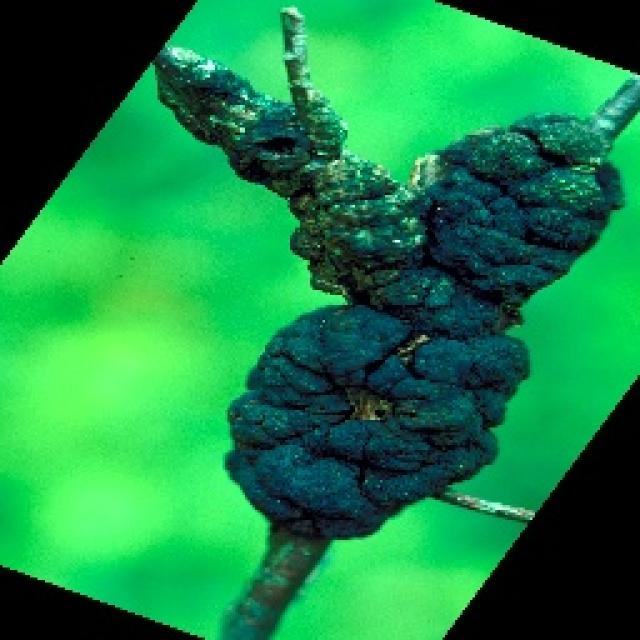Black_knot: (148, 2, 638, 542)
